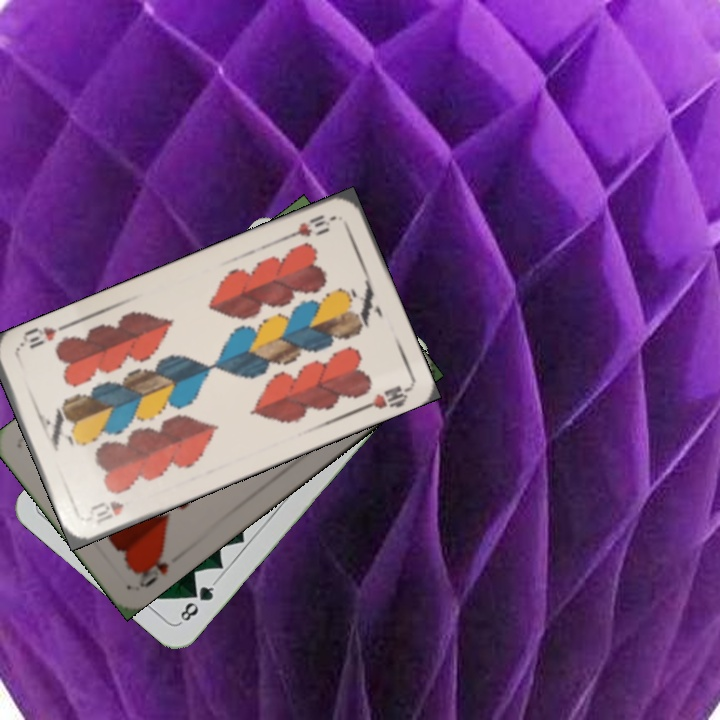G8: (175, 577, 219, 626)
H10: (282, 210, 338, 242), (85, 496, 126, 527)
HO: (131, 547, 172, 591)
